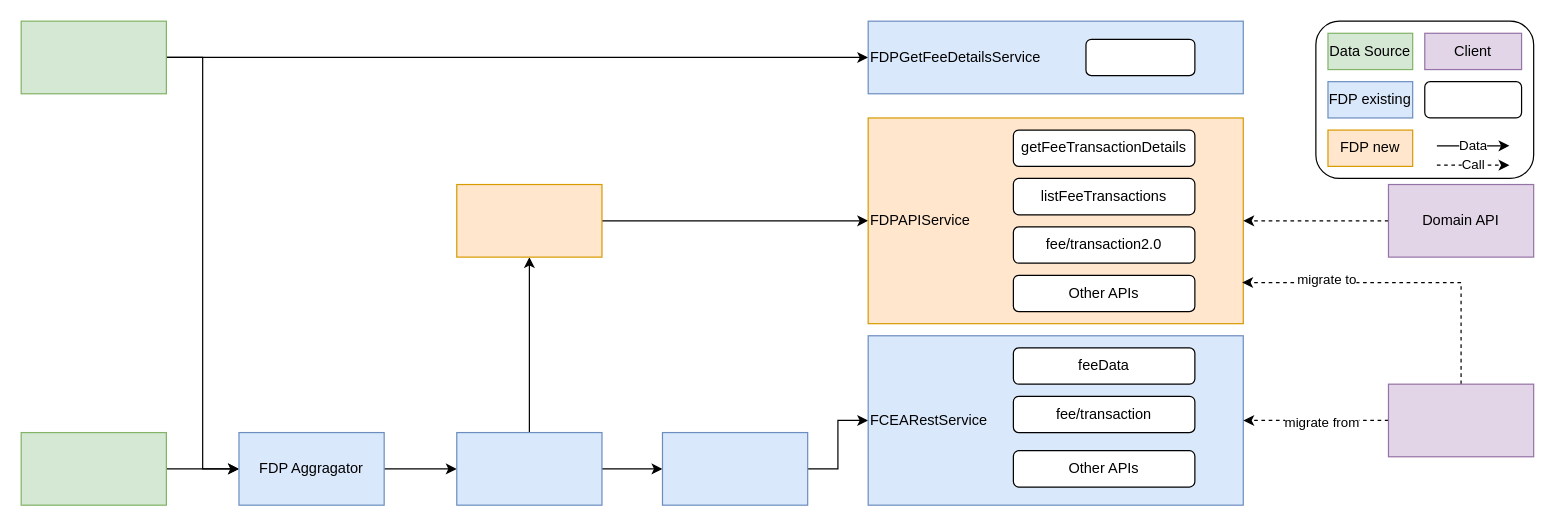
Image size: 1555x526. Some labels were removed from this diagram. Here are the shapes that lost their labels. From the top down, the centre of each, then its label:
At point 93,57: "Odyssey".
At point 1140,57: "getFeeDetails".
At point 1473,99: "API".
At point 529,220: "FDP Index Base Layer".
At point 1460,420: "FIFA".
At point 93,468: "Caishen".
At point 529,468: "FDP Data Lake".
At point 734,468: "FDP Data Index".
